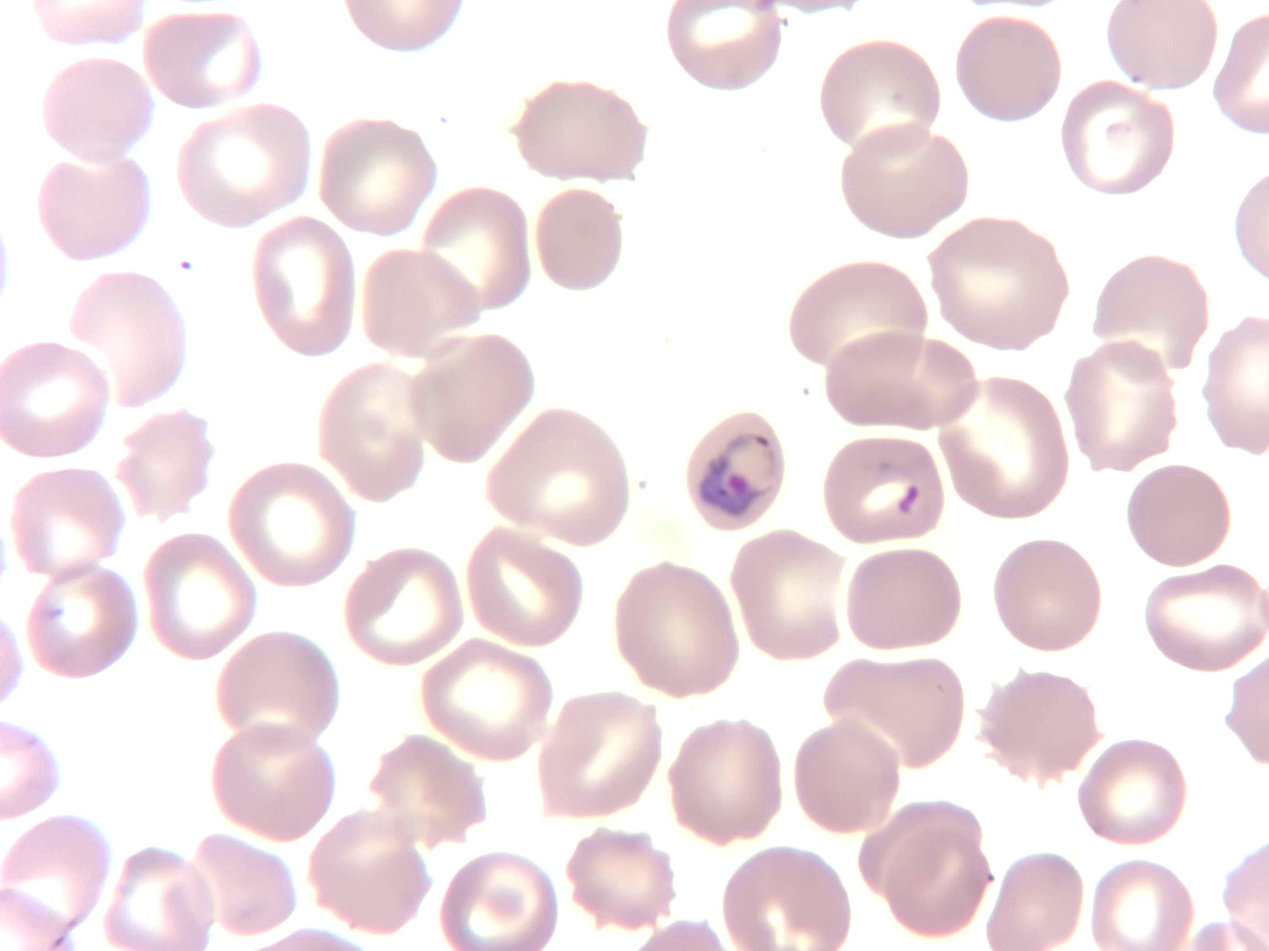Infected: (685, 405, 785, 530)
Uninfected: (936, 368, 1065, 519), (931, 213, 1068, 355), (486, 409, 622, 550), (614, 564, 741, 703), (822, 327, 978, 437), (790, 261, 930, 382), (411, 334, 534, 470), (824, 651, 957, 776), (68, 268, 187, 406), (178, 103, 312, 225), (227, 463, 356, 588), (840, 122, 974, 242), (212, 724, 336, 852), (420, 640, 548, 763), (212, 633, 342, 754), (320, 366, 431, 505), (251, 215, 358, 359), (728, 528, 841, 664), (822, 40, 940, 169), (534, 697, 659, 817), (511, 76, 644, 184), (310, 815, 423, 941), (1139, 564, 1269, 673), (671, 717, 779, 848), (320, 113, 435, 236), (988, 532, 1100, 658), (425, 186, 531, 317), (0, 813, 100, 951), (977, 667, 1094, 784), (370, 733, 488, 849), (361, 245, 481, 359), (792, 715, 904, 836), (148, 532, 257, 656), (1068, 345, 1175, 470), (1096, 256, 1204, 379), (41, 53, 152, 171), (436, 843, 557, 951), (463, 528, 577, 642), (21, 564, 132, 680), (0, 338, 103, 463), (347, 548, 458, 661), (822, 439, 943, 542), (1077, 733, 1187, 845), (956, 12, 1065, 125), (728, 845, 844, 951), (1066, 81, 1170, 198), (568, 824, 673, 939), (114, 409, 218, 525), (7, 469, 119, 575), (851, 551, 962, 655), (39, 154, 149, 256), (858, 803, 983, 892), (142, 12, 260, 105), (886, 829, 986, 936), (1127, 469, 1226, 575), (194, 834, 294, 936), (1109, 1, 1219, 93), (105, 850, 205, 951), (666, 5, 784, 90), (1091, 863, 1196, 951), (986, 856, 1082, 951), (539, 190, 619, 295)
